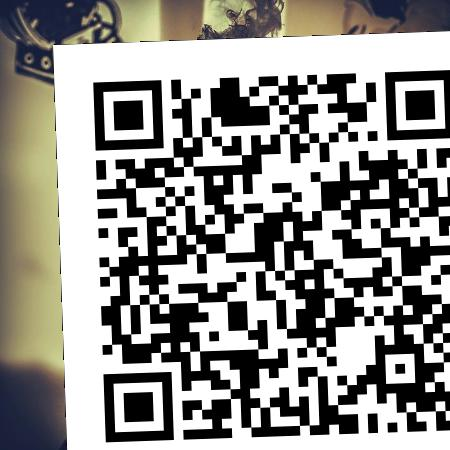qr_code: (53, 42, 449, 438)
